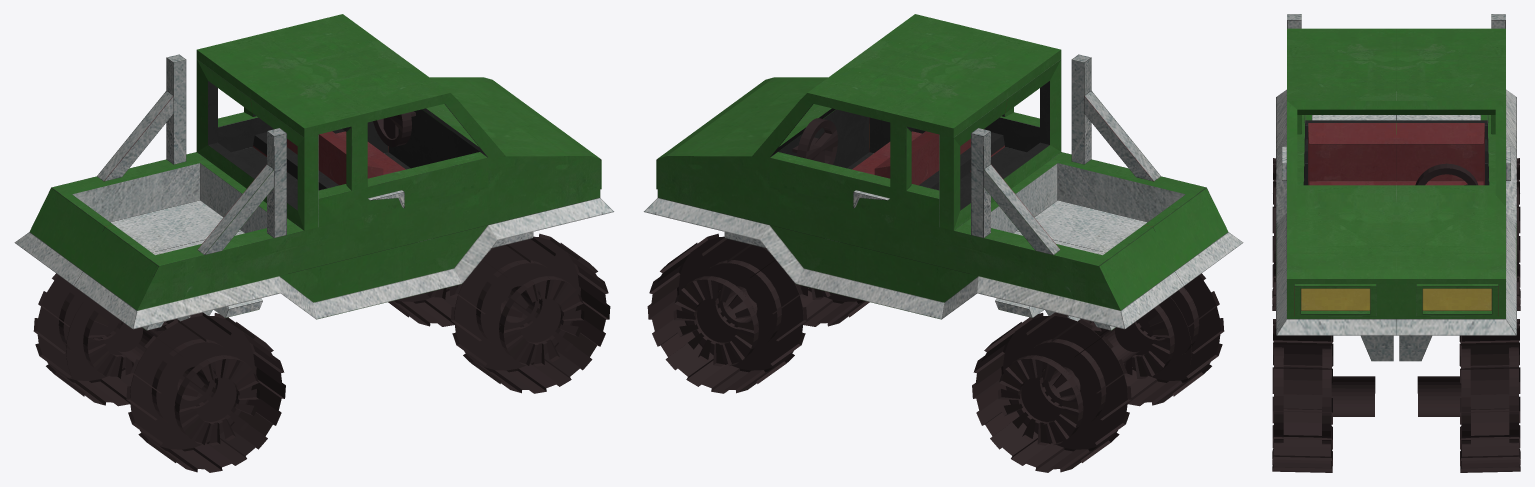
File: CaminhoneteRyann.fbx
3 renders of one model, left to right at view 1: azimuth 30°, elevation 25°; view 2: azimuth 150°, elevation 25°; view 3: azimuth 270°, elevation 25°, orthographic.
Parts seen in each view (by area): view 1: Cube, Cube.001, Cylinder; view 2: Cube, Cube.001, Cylinder; view 3: Cube, Cube.001, Cylinder.
Part boxes in pixels (x1,y1,x2,y2): Cube: (14, 14, 613, 330); Cube.001: (33, 233, 610, 472); Cylinder: (373, 111, 415, 147); Cube: (644, 14, 1243, 330); Cube.001: (647, 233, 1224, 472); Cylinder: (792, 118, 837, 164); Cube: (1276, 14, 1516, 361); Cube.001: (1272, 158, 1520, 472); Cylinder: (1415, 163, 1477, 185).
Bounding box in the file's own units: 772 × 485 × 339.
